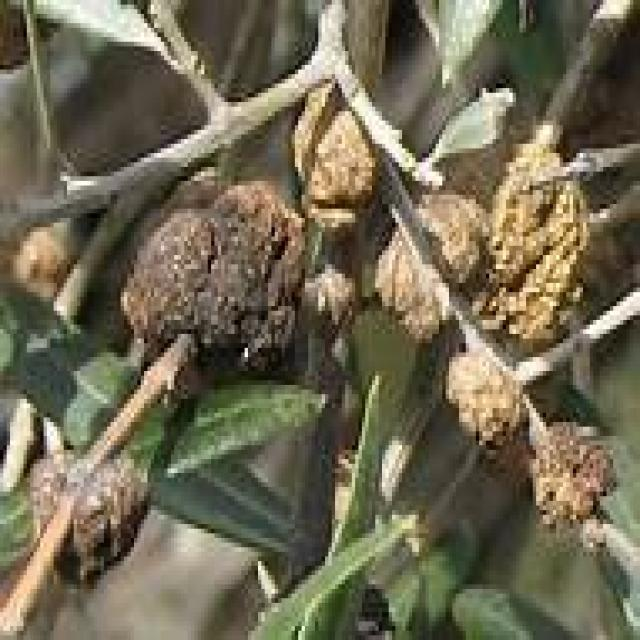Tuberculosis: (117, 181, 302, 371), (462, 144, 590, 348), (30, 452, 144, 593), (295, 79, 372, 232), (528, 408, 610, 527), (375, 227, 446, 339), (446, 352, 520, 459)
